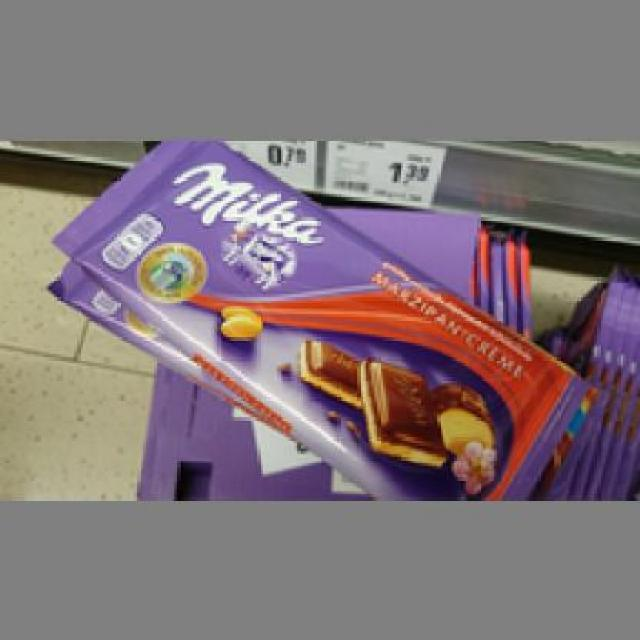Chocolate bar: (66, 140, 591, 497)
